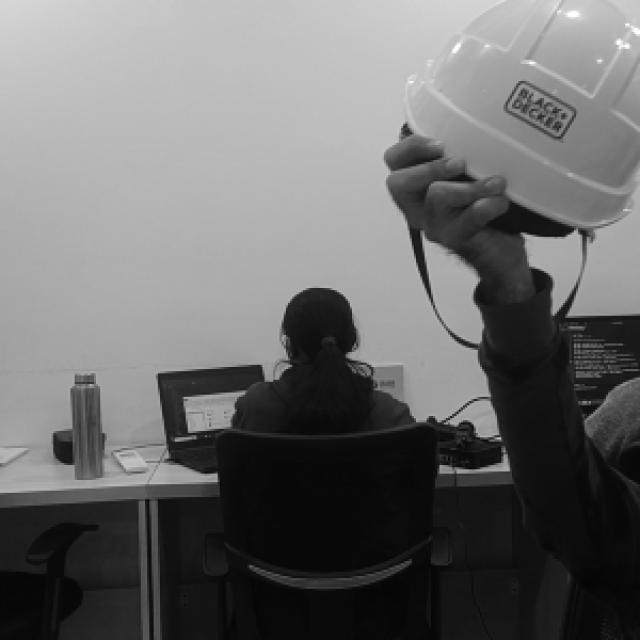safety_helmet: (401, 3, 640, 230)
